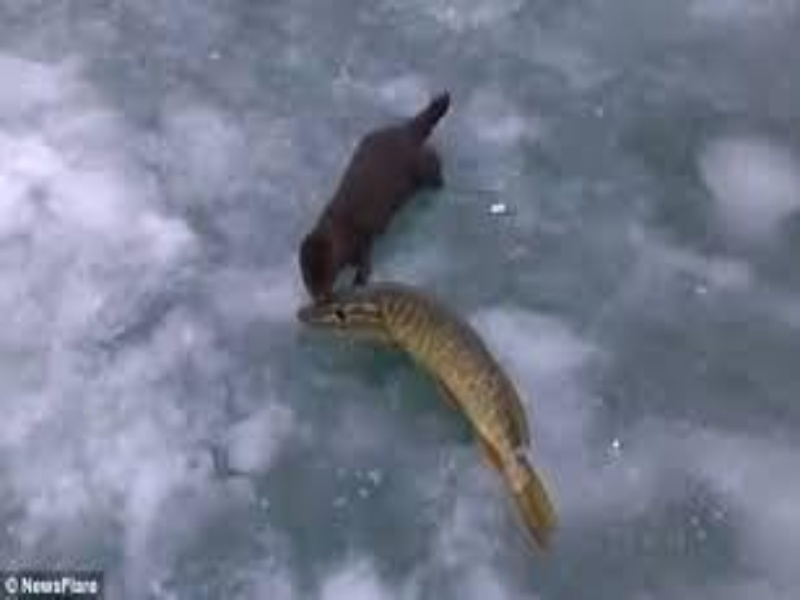minkish: (297, 88, 454, 310)
